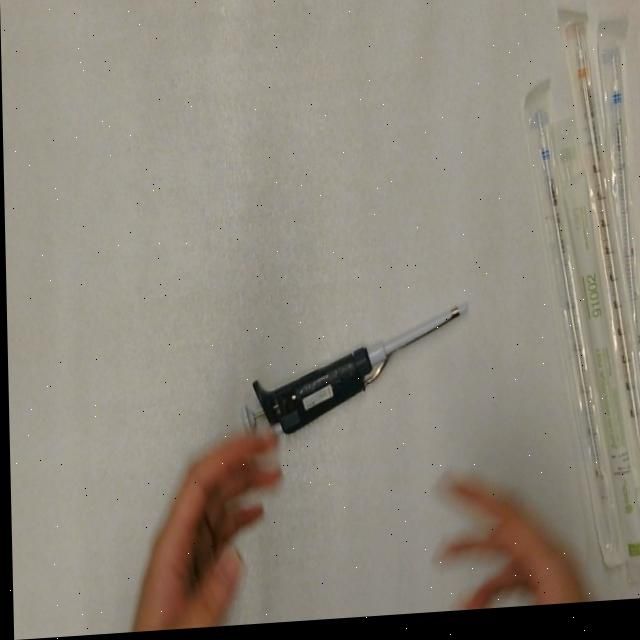Serelogical Pipet 10 mL - Sealed: (559, 13, 640, 513)
Serelogical Pipet 2 mL - Sealed: (551, 115, 640, 601)
Serelogical Pipet 5 mL - Sealed: (517, 83, 624, 587), (596, 24, 640, 419)
Single Channel Pipettor: (233, 302, 473, 448)
